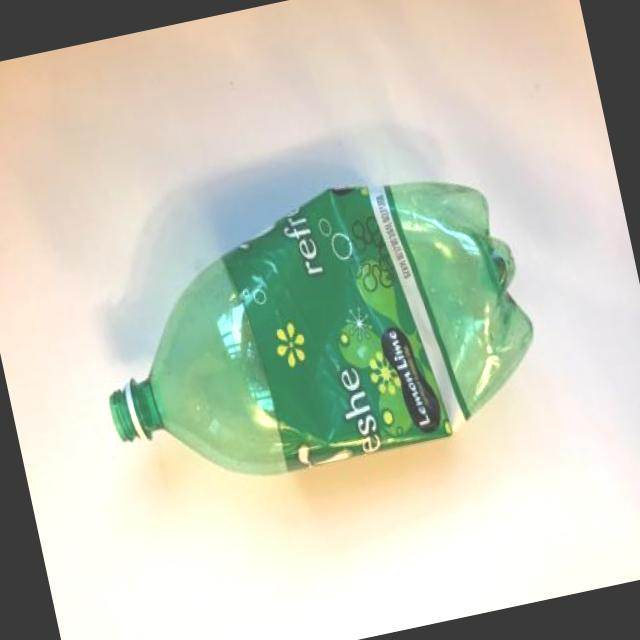Trash: (72, 172, 592, 506)
